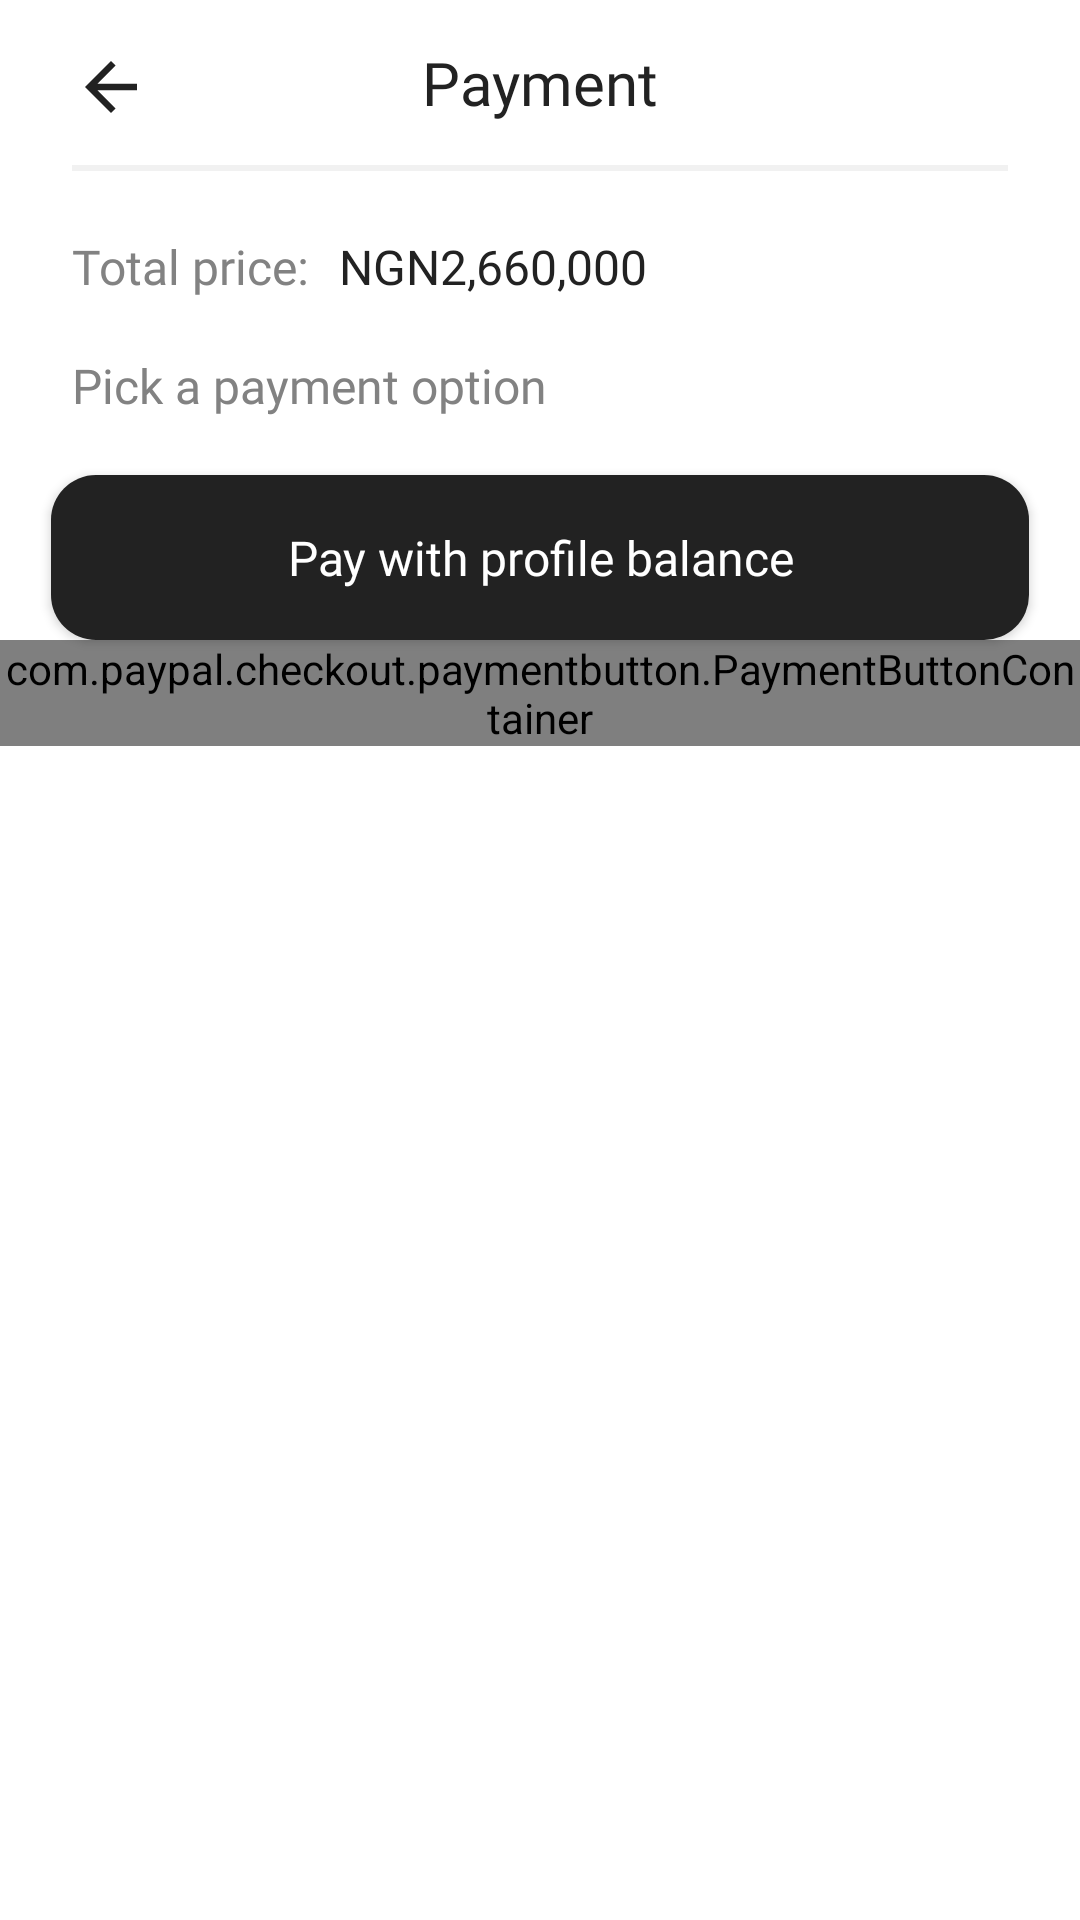

Locate icon controls on the screen. Image size 1080px×1920px, boxes as (x1, y1, x2, y2).
arrow back: (85, 61, 137, 113)
